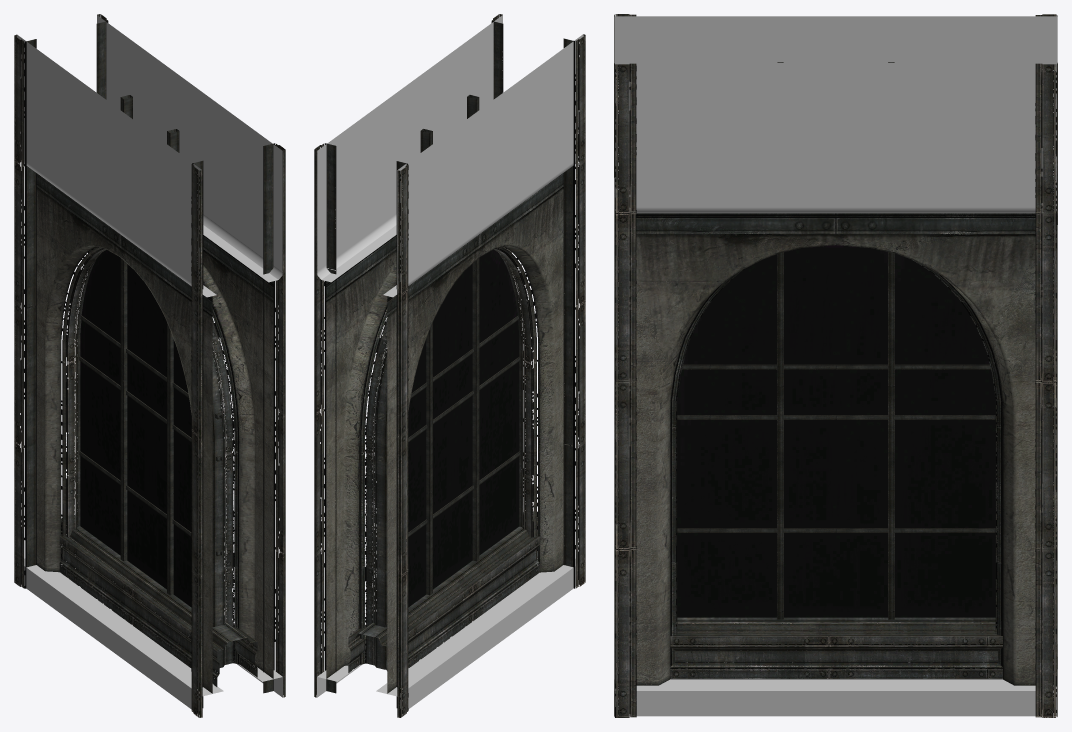
The model's file is tesla_modules1_wall_arch.dae.
The picture shows the model from 3 angles, left to right: view 1: azimuth 30°, elevation 25°; view 2: azimuth 150°, elevation 25°; view 3: azimuth 270°, elevation 25°; orthographic projection. The views are drawn at different scales.
Parts seen in each view (by area): view 1: wall_arch_metal, wall_arch_stone, wall_arch_arch, wall_arch_metal2; view 2: wall_arch_metal, wall_arch_stone, wall_arch_arch, wall_arch_metal2; view 3: wall_arch_metal1, wall_arch_stone, wall_arch_metal, wall_arch_arch.
Part boxes in pixels (x1,y1,x2,y2): wall_arch_metal: [14, 14, 285, 717]; wall_arch_stone: [17, 15, 282, 714]; wall_arch_arch: [27, 173, 273, 693]; wall_arch_metal2: [80, 250, 214, 623]; wall_arch_metal: [314, 14, 585, 717]; wall_arch_stone: [317, 15, 582, 709]; wall_arch_arch: [326, 173, 572, 693]; wall_arch_metal2: [385, 249, 519, 623]; wall_arch_metal1: [677, 245, 995, 617]; wall_arch_stone: [614, 16, 1057, 716]; wall_arch_metal: [614, 14, 1057, 717]; wall_arch_arch: [615, 213, 1056, 685].
Size of the model in its own units: 1074 by 6504 by 4003.
